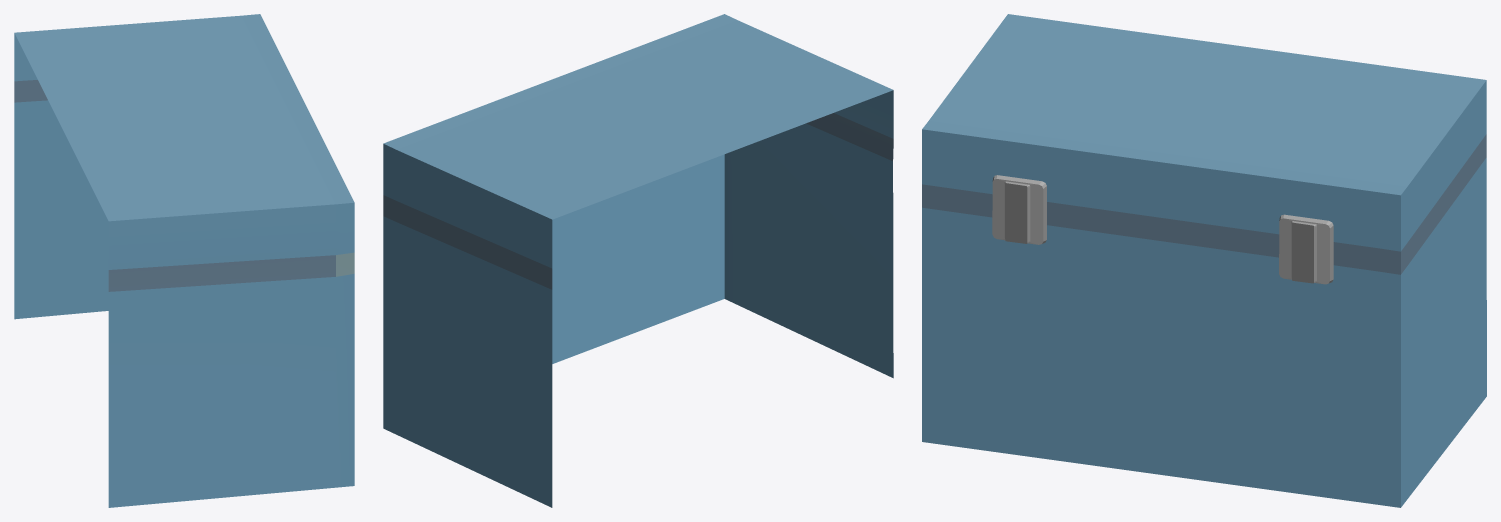
The model's file is MSH_QuestObject_box_01.fbx.
3 renders of one model, left to right at view 1: azimuth 30°, elevation 25°; view 2: azimuth 150°, elevation 25°; view 3: azimuth 270°, elevation 25°, orthographic. The views are drawn at different scales.
Visible parts, largest first — view 1: MSH_QuestObject_box_01; view 2: MSH_QuestObject_box_01; view 3: MSH_QuestObject_box_01.
Part boxes in pixels (x1=…): MSH_QuestObject_box_01: x1=14, y1=14, x2=354, y2=507; MSH_QuestObject_box_01: x1=383, y1=14, x2=893, y2=507; MSH_QuestObject_box_01: x1=922, y1=14, x2=1486, y2=507.
Bounding box in the file's own units: 1.31 × 1.09 × 1.76.
